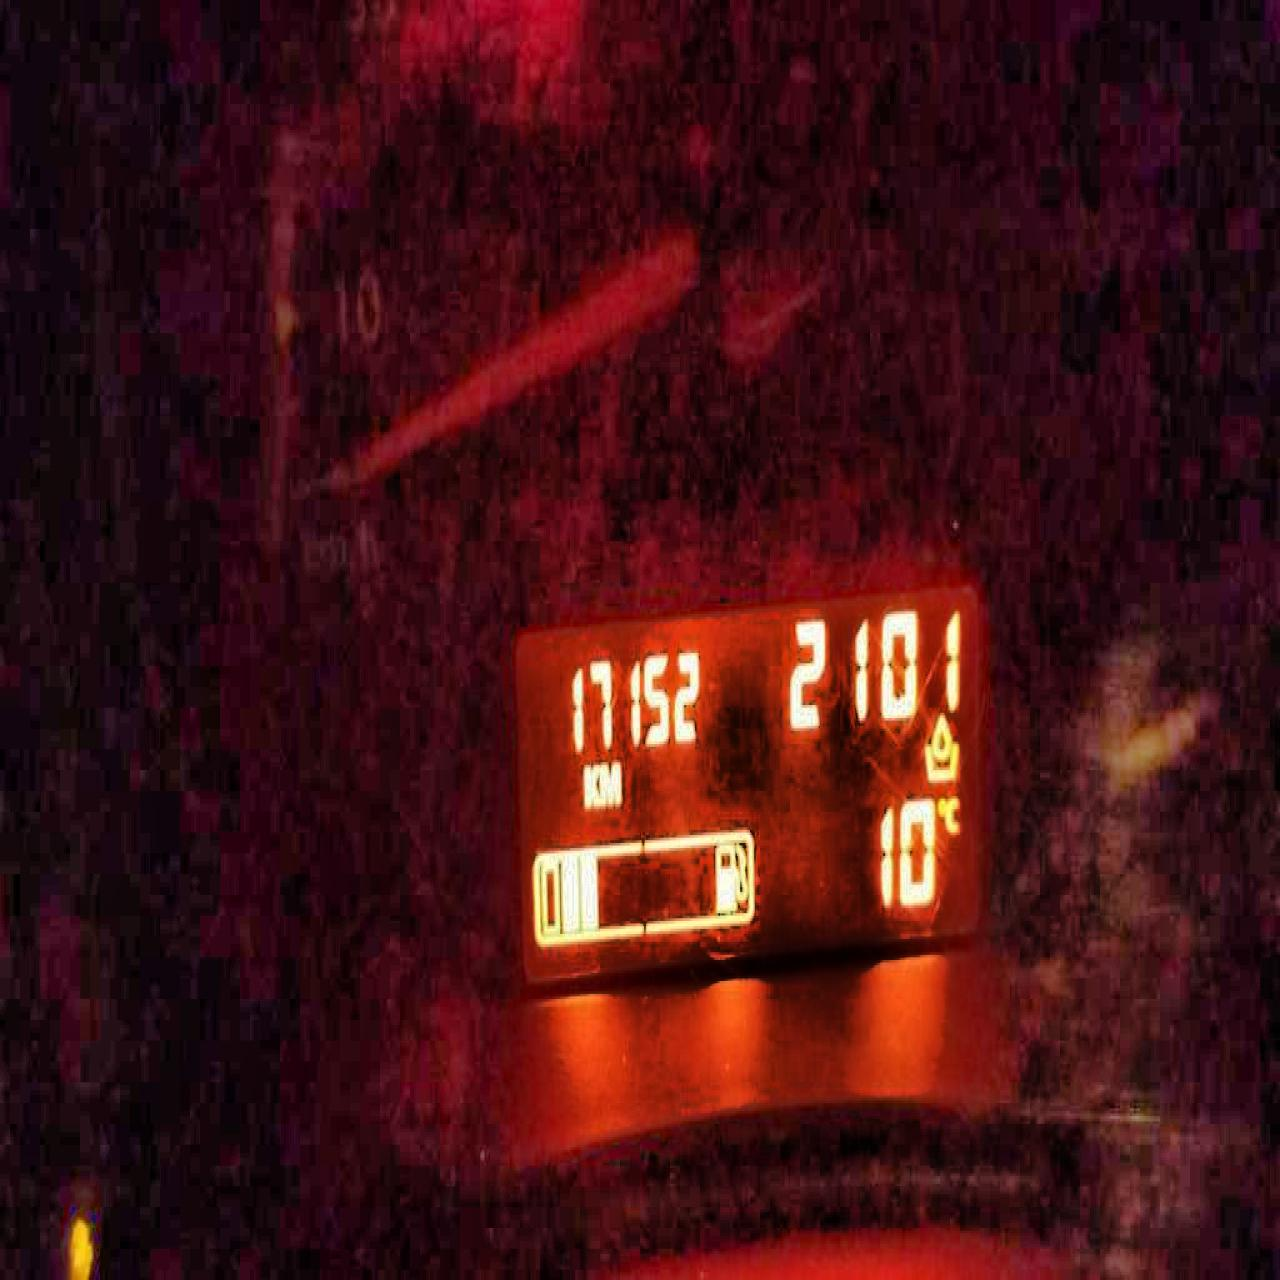0: (896, 791, 937, 911), (878, 604, 918, 723)
1: (940, 604, 964, 713), (874, 794, 896, 911), (851, 612, 869, 723), (566, 658, 585, 757), (625, 653, 641, 747)
2: (787, 611, 828, 734), (670, 645, 700, 747)
5: (642, 647, 669, 747)
7: (587, 651, 613, 749)
X: (580, 757, 600, 813), (600, 757, 621, 809), (944, 791, 960, 835)
odometer: (509, 565, 986, 996)
